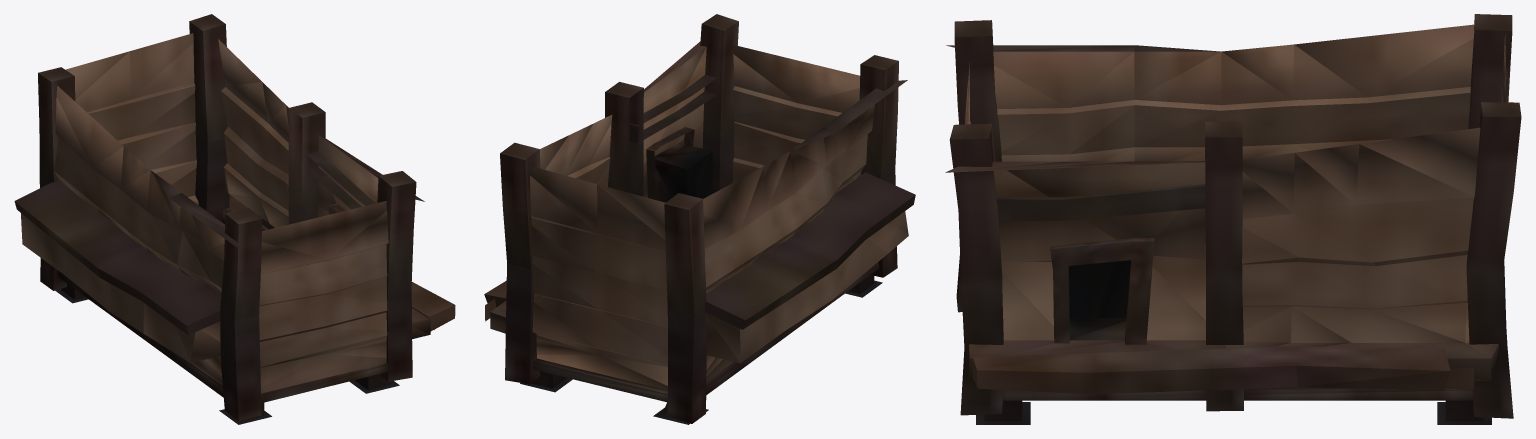
Rendered from chicken coop.fbx.
The picture shows the model from 3 angles, left to right: view 1: azimuth 30°, elevation 25°; view 2: azimuth 150°, elevation 25°; view 3: azimuth 270°, elevation 25°; orthographic projection. The views are drawn at different scales.
Parts seen in each view (by area): view 1: chicken coop; view 2: chicken coop; view 3: chicken coop.
Part boxes in pixels (x1,y1,x2,y2): chicken coop: (14,14,455,424); chicken coop: (484,14,915,424); chicken coop: (945,14,1521,424).
Bounding box in the file's own units: 328 × 266 × 443.
